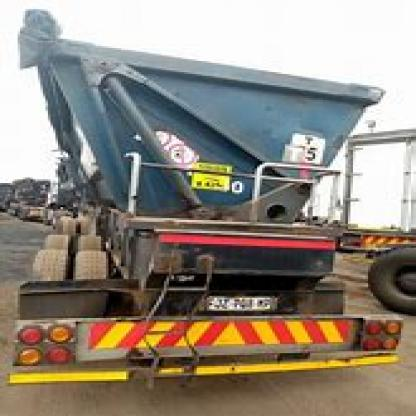dump_truck: (8, 2, 414, 386)
